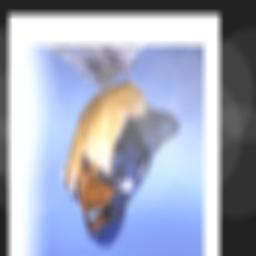Swallow: (60, 49, 199, 253)
